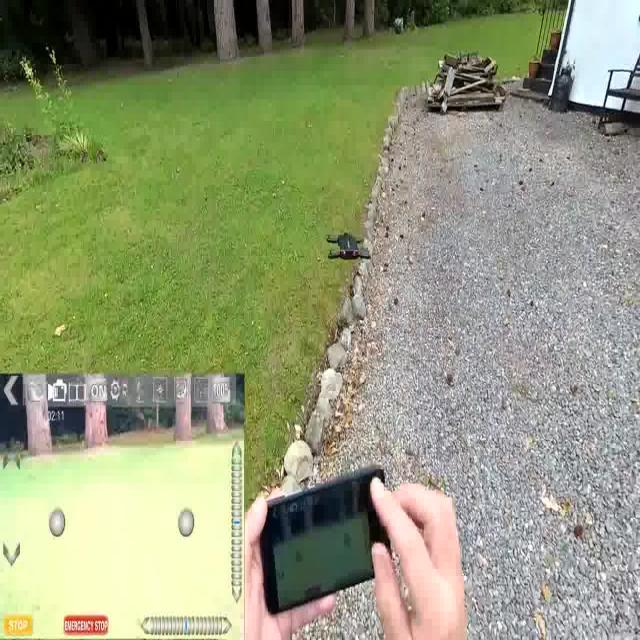drone: (324, 230, 372, 264)
